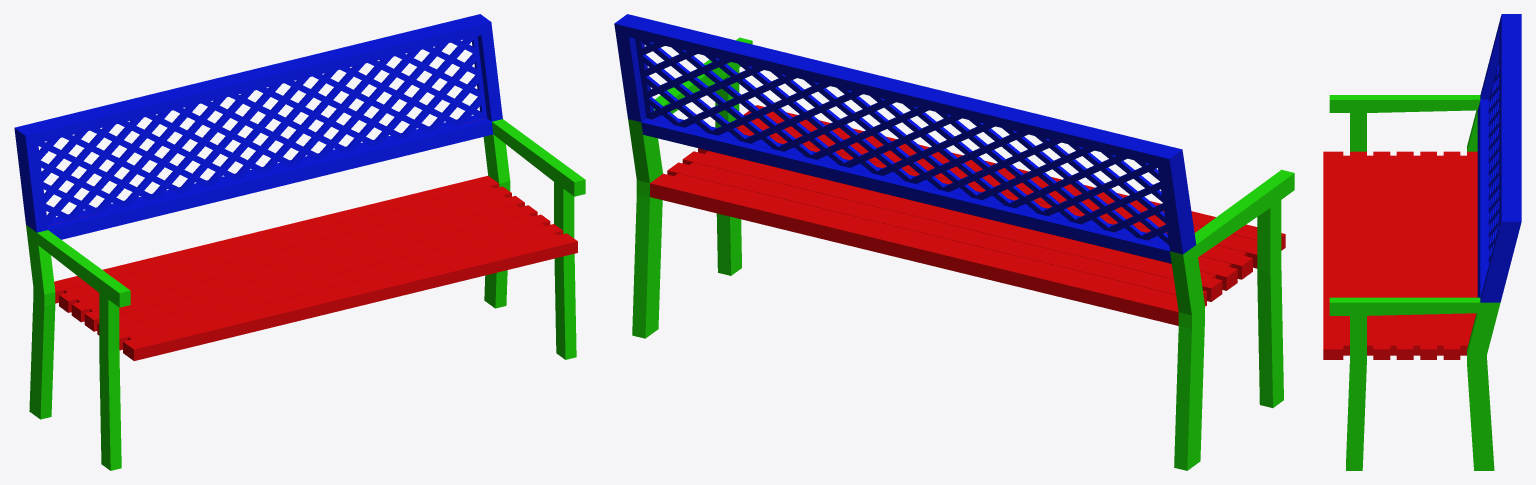
File: Bench.fbx
3 views of the same model, side by side, from view 1: azimuth 30°, elevation 25°; view 2: azimuth 150°, elevation 25°; view 3: azimuth 270°, elevation 25° (orthographic). The views are drawn at different scales.
Parts seen in each view (by area): view 1: Bench; view 2: Bench; view 3: Bench.
Part boxes in pixels (left/top/right/bottom): Bench: left=14, top=14, right=585, bottom=470; Bench: left=614, top=14, right=1294, bottom=470; Bench: left=1323, top=14, right=1521, bottom=470.
Bounding box in the file's own units: 840 × 470 × 339.
